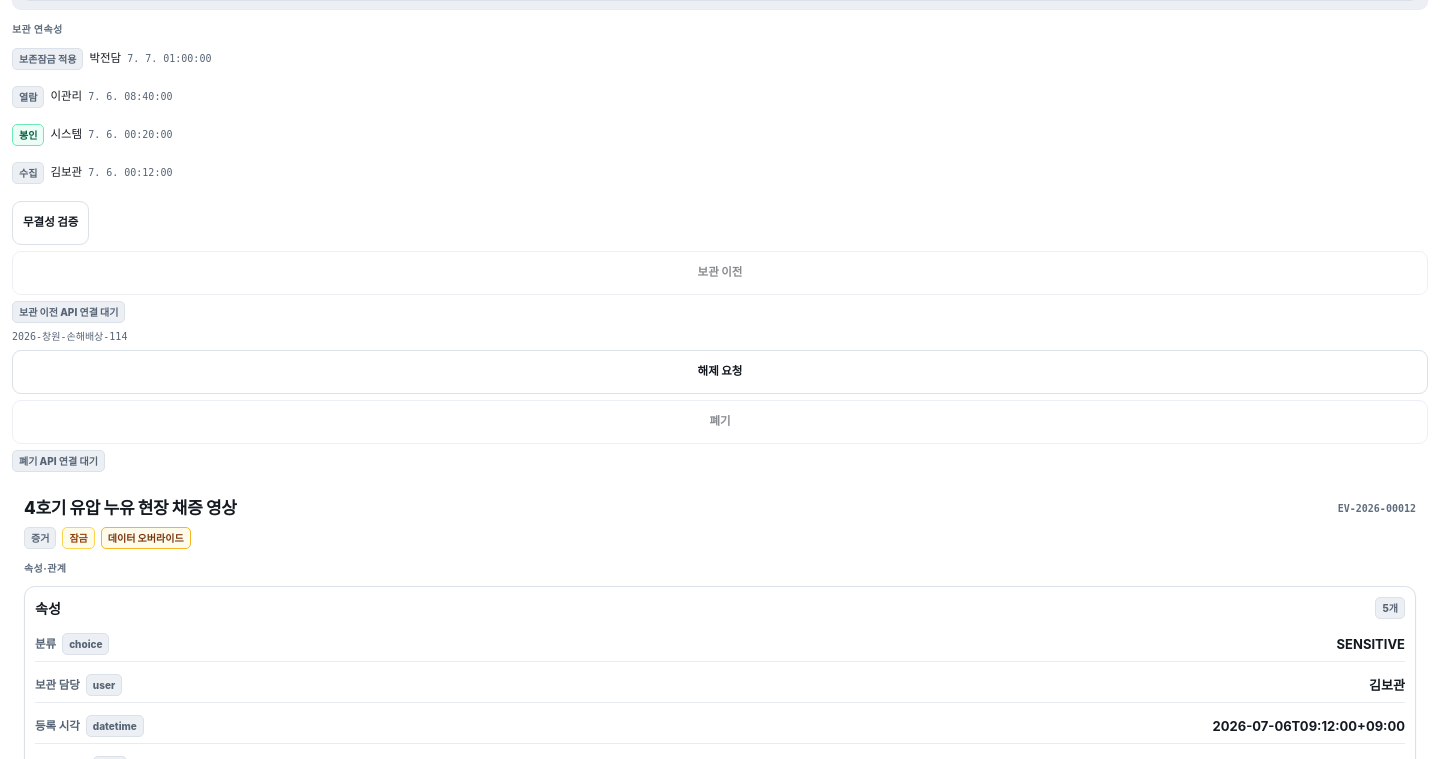
Test case: EvidenceCard hold-release four-eyes flow (fail-closed) › opens a pending approval, blocks a self-decide, and never releases on decide alone
(page scrolled)
Click the button "해제 요청".
click(720, 372)  # box [12, 350, 1428, 394]
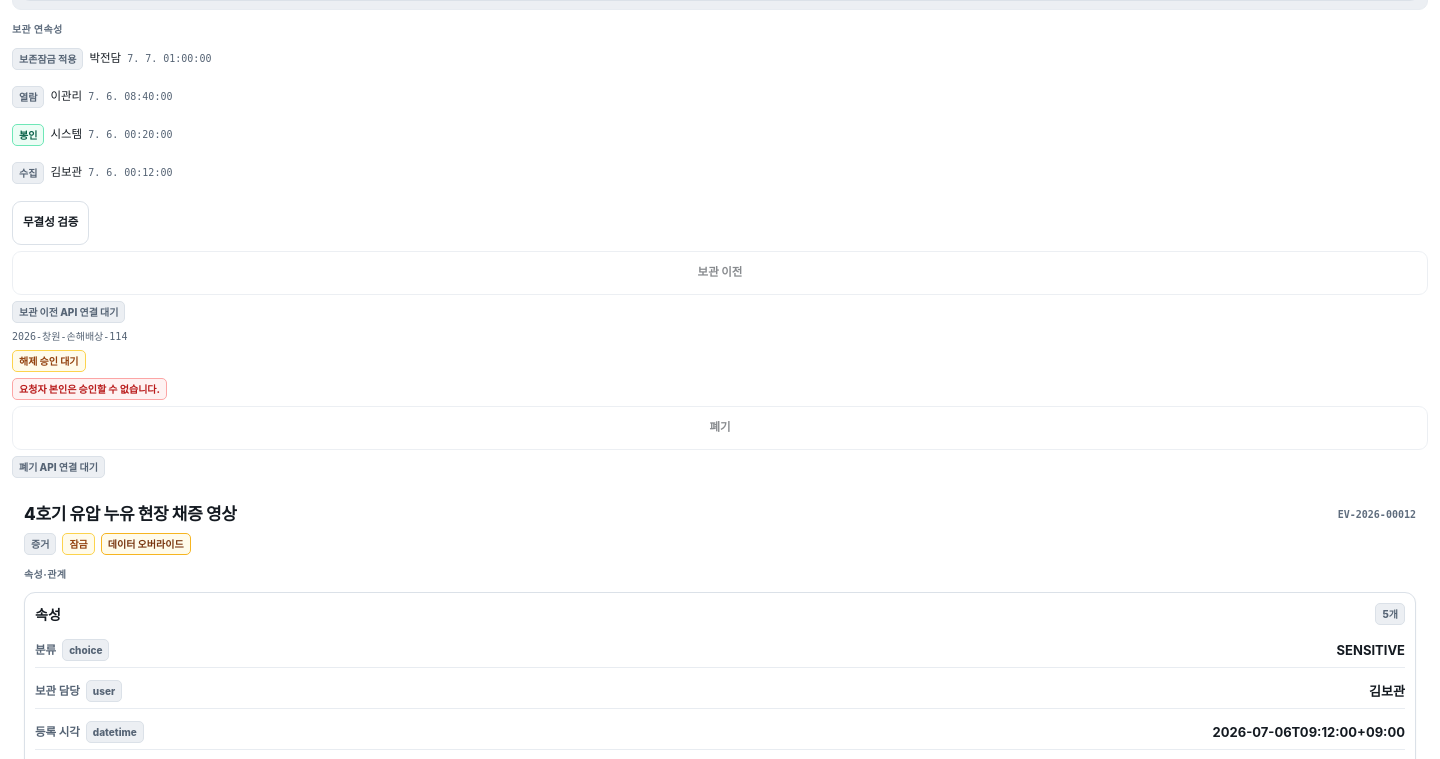
expect the text "해제 승인 대기" is shown: met, box [12, 350, 86, 372]
expect the text "요청자 본인은 승인할 수 없습니다." is shown: met, box [12, 378, 167, 400]
